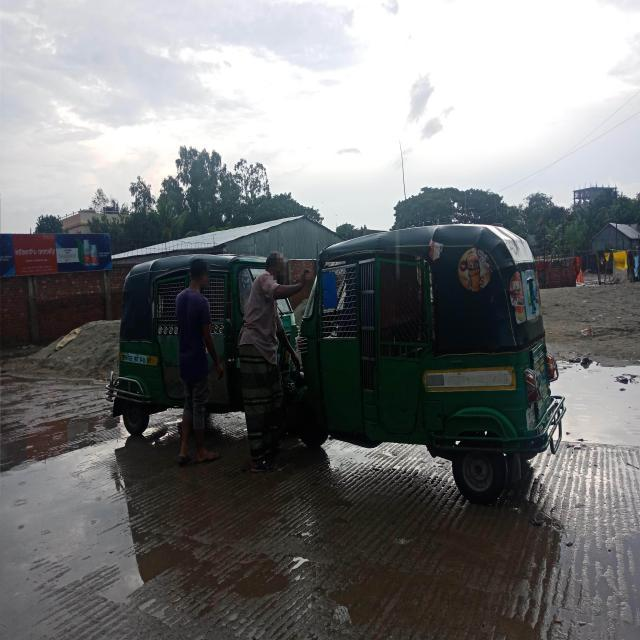CNG: (254, 213, 619, 503), (78, 235, 329, 451)
